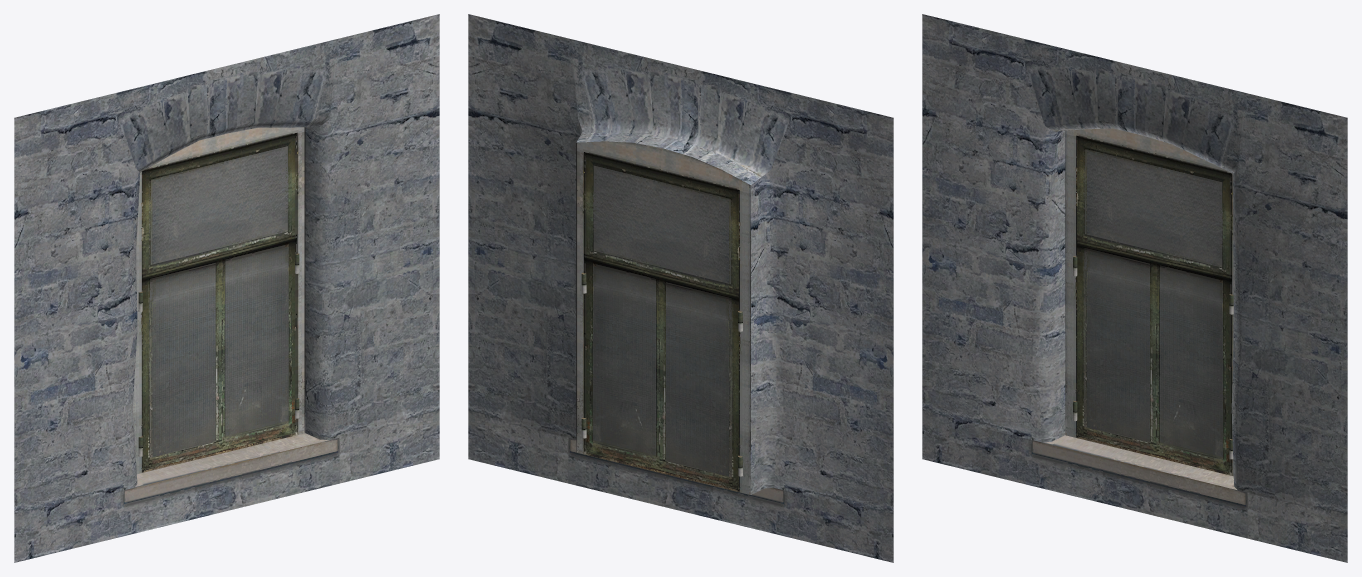
Rendered from factory_corridor_03_white.DAE.
3 views of the same model, side by side, from view 1: azimuth 30°, elevation 25°; view 2: azimuth 150°, elevation 25°; view 3: azimuth 330°, elevation 25° (orthographic).
Visible parts, largest first — view 1: Object150, Box322; view 2: Object150, Box322; view 3: Object150, Box322.
Boxes of the visible parts, x1,y1,x2,y2 form: Object150: (14,14,439,516); Box322: (14,39,439,562); Object150: (468,14,893,516); Box322: (468,39,893,562); Object150: (922,14,1347,516); Box322: (922,37,1347,562).
Bounding box in the file's own units: 4 × 4 × 0.2395.
